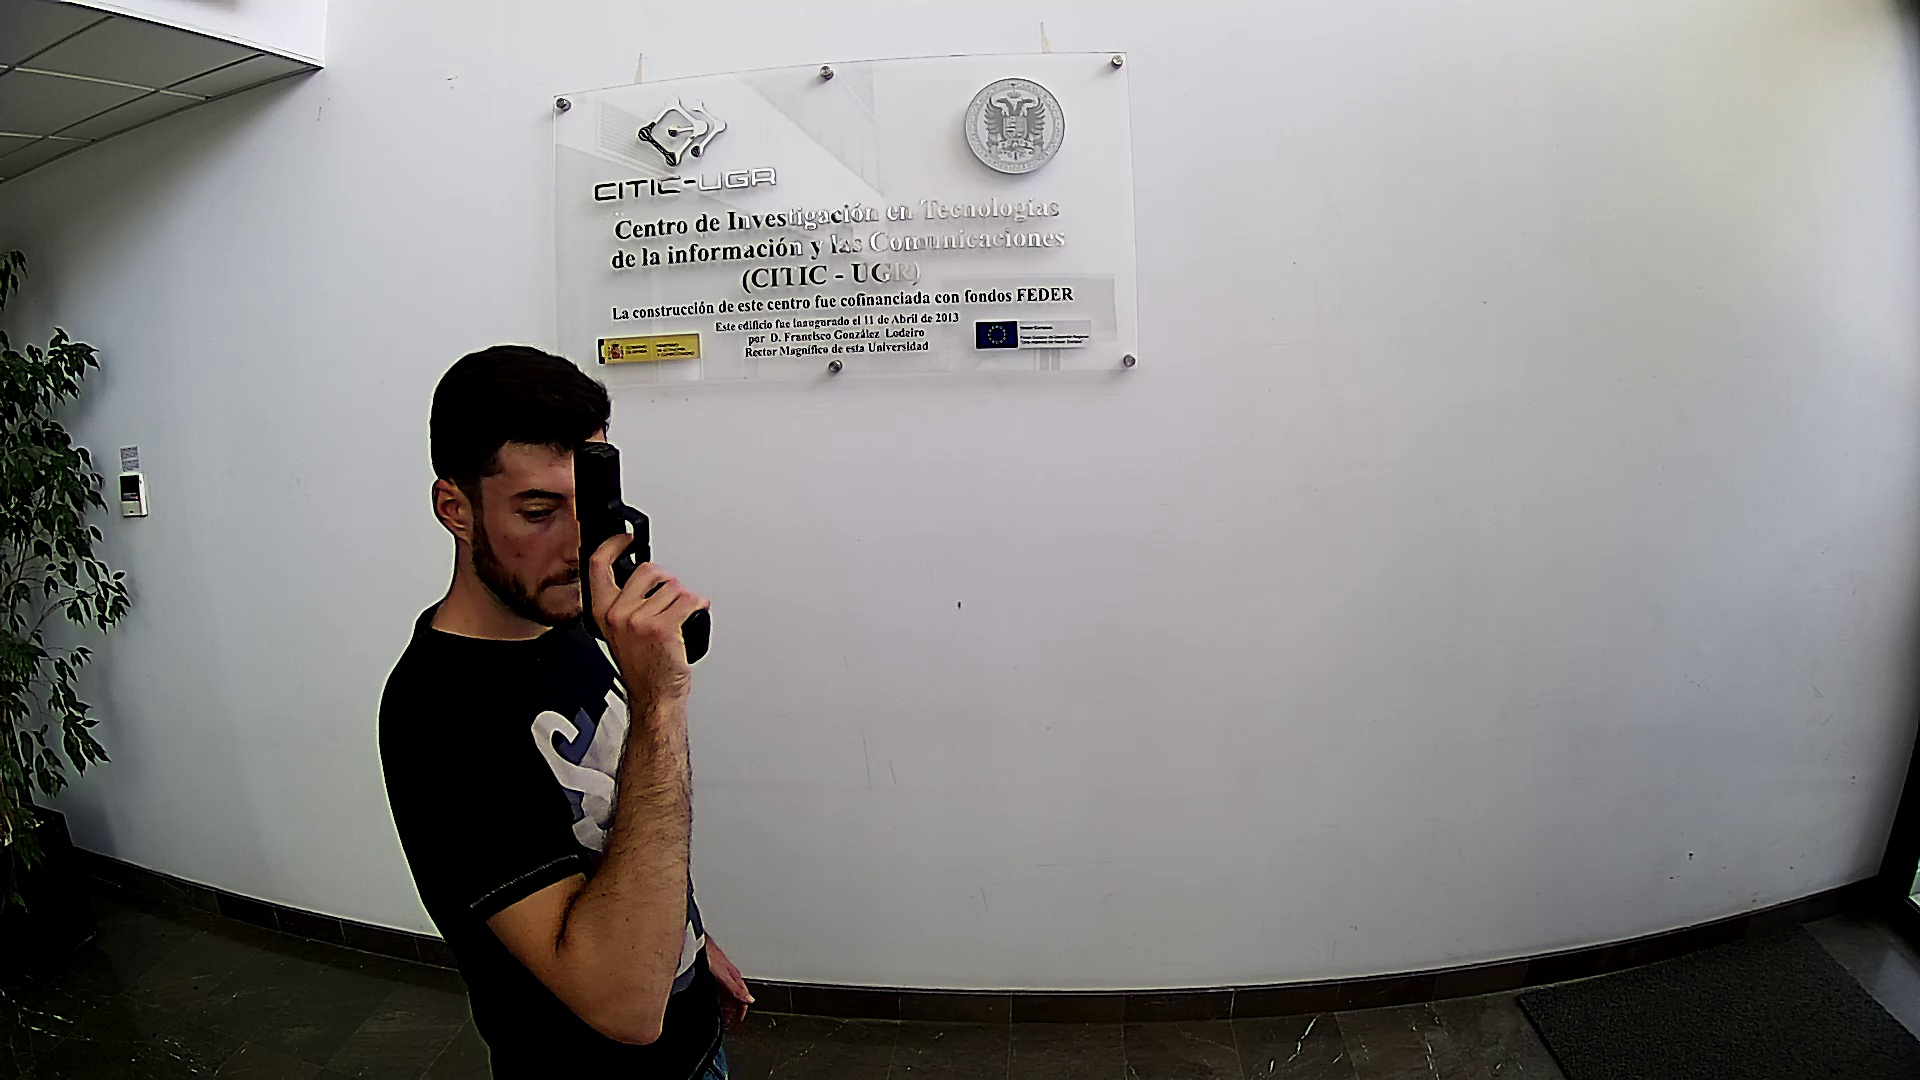pistol: (571, 438, 712, 666)
